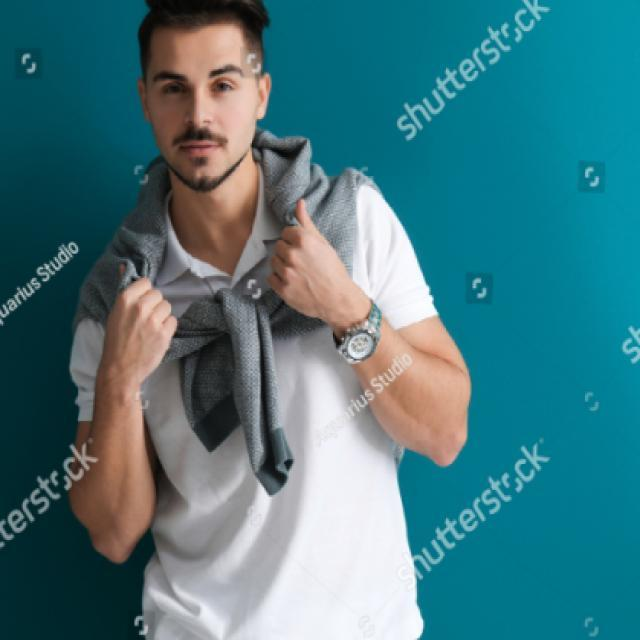Watch: (334, 304, 389, 372)
